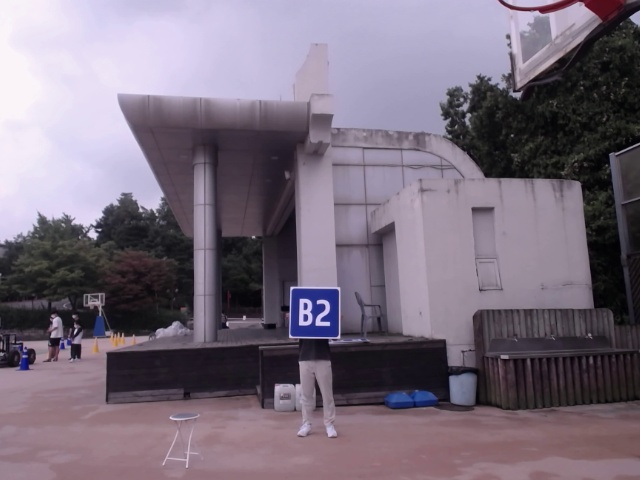delivery_b2: (289, 286, 341, 338)
